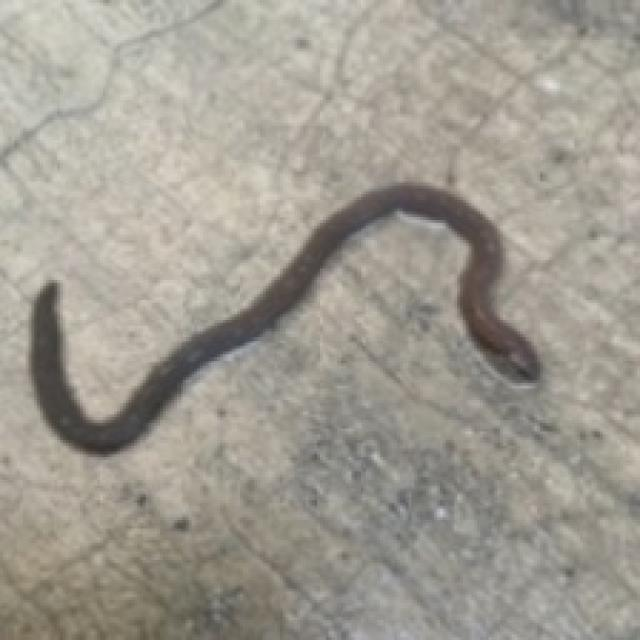gervais worm snake: (31, 183, 537, 451)
